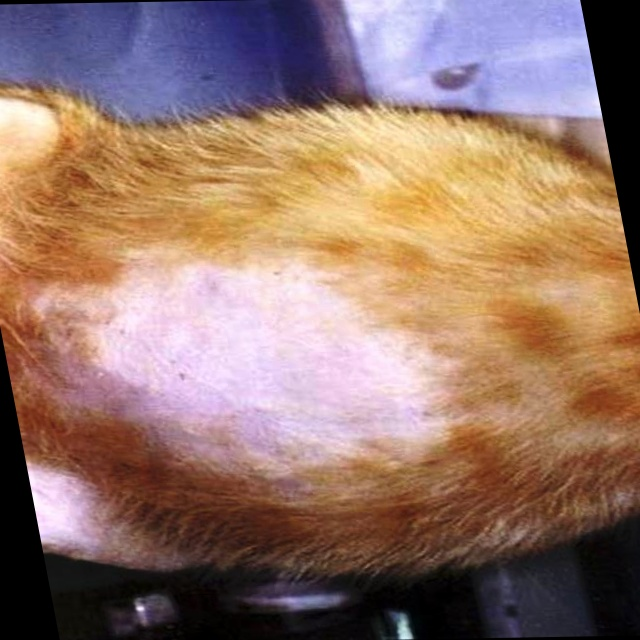hairloss: (73, 263, 454, 438)
